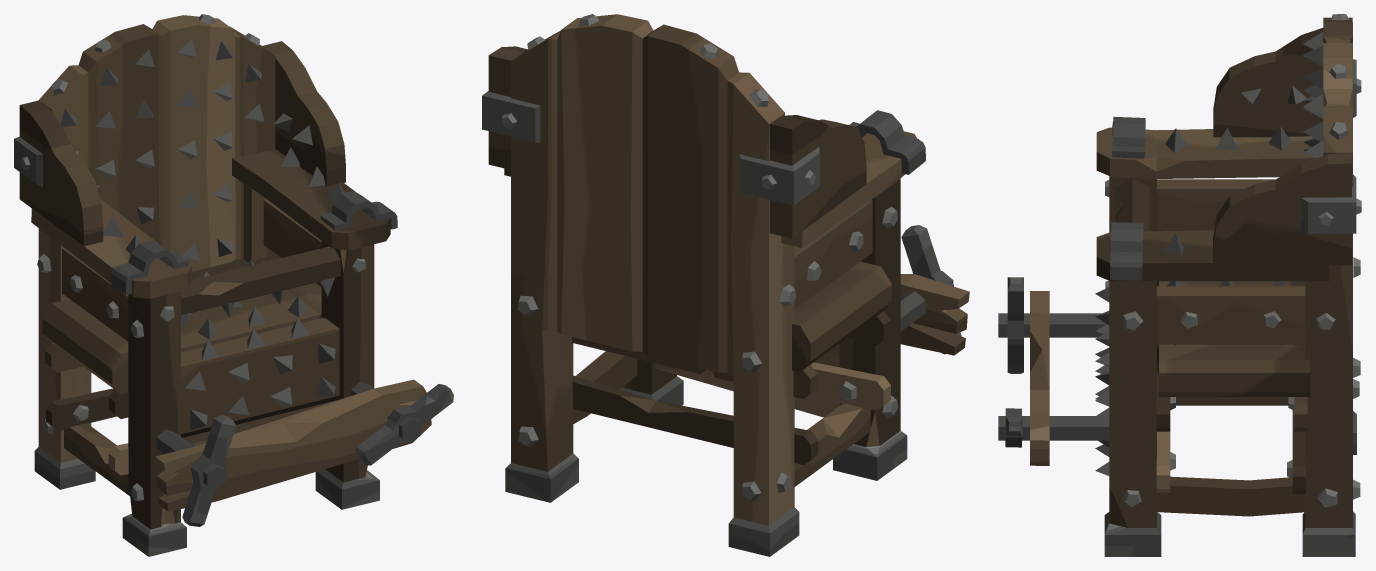
File: SM_Prop_Chair_02.fbx
The picture shows the model from 3 angles, left to right: view 1: azimuth 30°, elevation 25°; view 2: azimuth 150°, elevation 25°; view 3: azimuth 270°, elevation 25°; orthographic projection. The views are drawn at different scales.
Visible parts, largest first — view 1: SM_Prop_Chair_02; view 2: SM_Prop_Chair_02; view 3: SM_Prop_Chair_02.
Boxes of the visible parts, <box> form: SM_Prop_Chair_02: <box>14,14,453,556</box>; SM_Prop_Chair_02: <box>482,14,969,556</box>; SM_Prop_Chair_02: <box>998,14,1361,556</box>.
Size of the model in its own units: 100 by 143 by 103.
